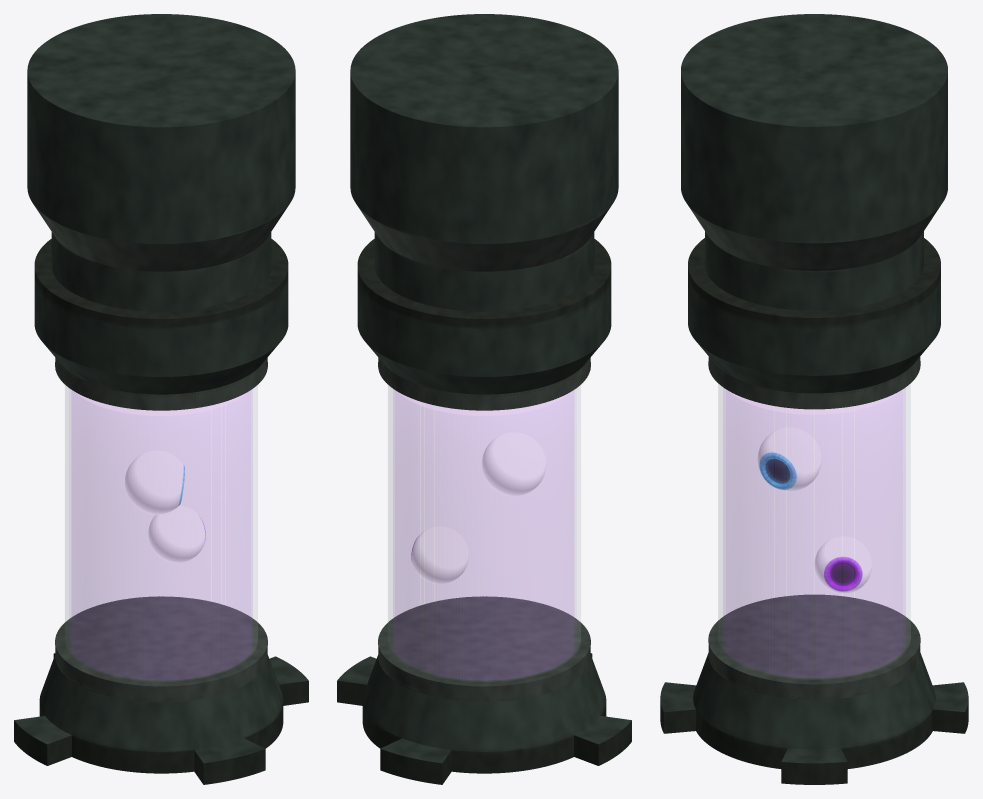
File: labo-cuve-2-violet-unity.glb
The picture shows the model from 3 angles, left to right: view 1: azimuth 30°, elevation 25°; view 2: azimuth 150°, elevation 25°; view 3: azimuth 270°, elevation 25°; orthographic projection.
Visible parts, largest first — view 1: Chassis graphite, Vitre, Liquide violet, Oeil bleu, Oeil violet; view 2: Chassis graphite, Vitre, Liquide violet, Oeil bleu, Oeil violet; view 3: Chassis graphite, Vitre, Liquide violet, Oeil bleu, Oeil violet.
Part boxes in pixels (left/top/right/bottom): Chassis graphite: left=14, top=14, right=308, bottom=784; Vitre: left=65, top=385, right=257, bottom=680; Liquide violet: left=72, top=391, right=250, bottom=679; Oeil bleu: left=124, top=450, right=184, bottom=514; Oeil violet: left=148, top=505, right=205, bottom=563; Chassis graphite: left=337, top=14, right=631, bottom=784; Vitre: left=388, top=385, right=580, bottom=680; Liquide violet: left=395, top=391, right=573, bottom=679; Oeil bleu: left=482, top=432, right=545, bottom=496; Oeil violet: left=411, top=526, right=468, bottom=584; Chassis graphite: left=660, top=14, right=968, bottom=784; Vitre: left=718, top=384, right=910, bottom=678; Liquide violet: left=726, top=390, right=902, bottom=677; Oeil bleu: left=757, top=427, right=821, bottom=491; Oeil violet: left=814, top=536, right=872, bottom=593.
Size of the model in its own units: 2.91 by 6.78 by 2.91.
8 materials, 5 textured.
